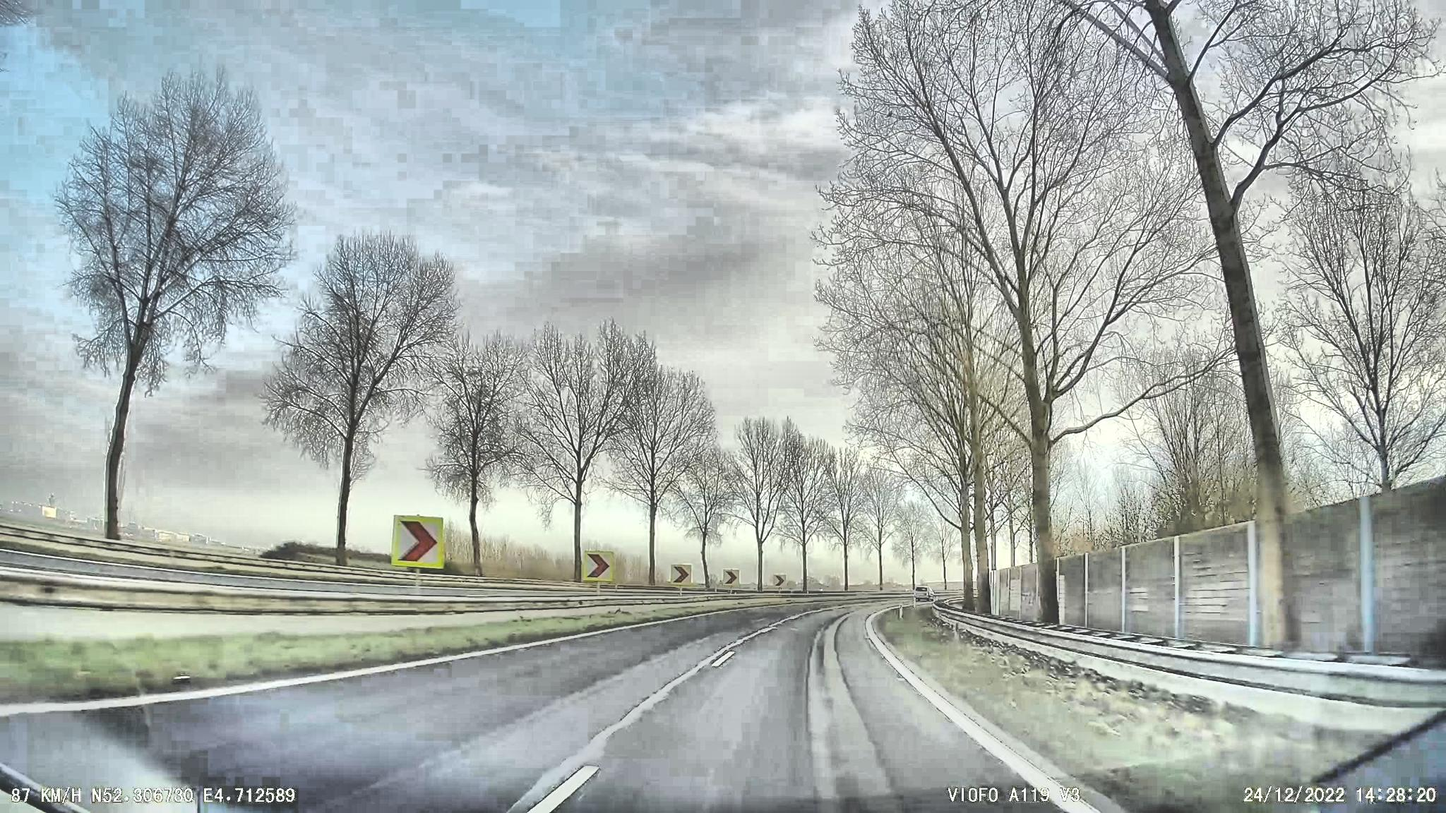Roads: (0, 600, 1070, 813)
